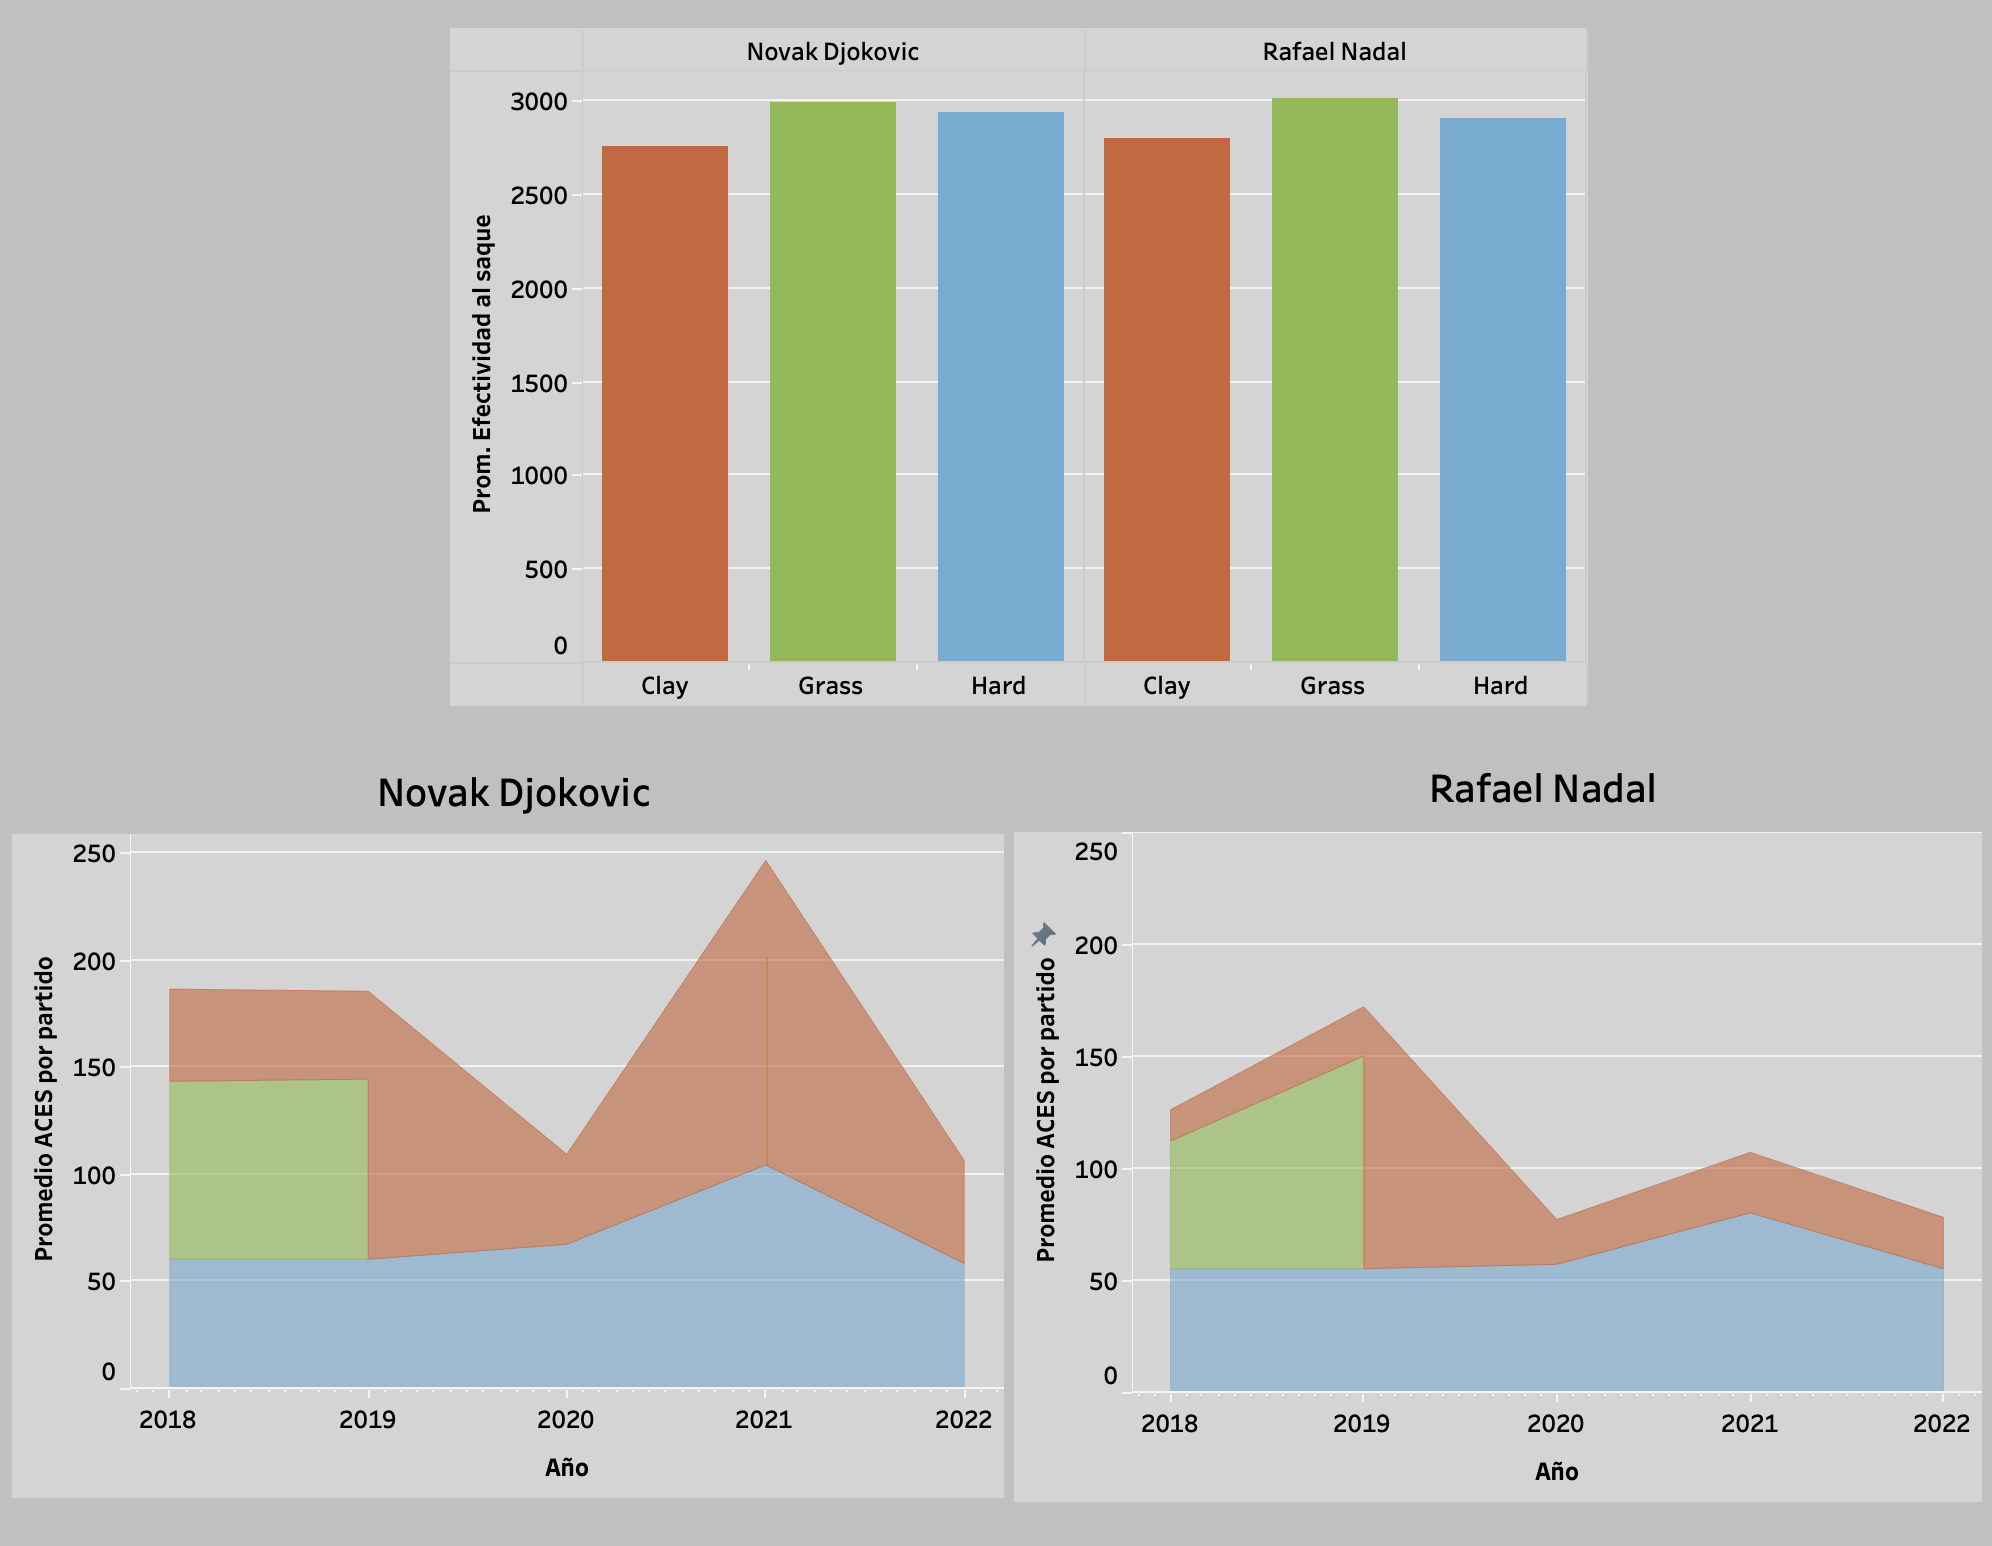

The dashboard page shown, as its layout file describes it:
{"tool":"tableau","page":{"name":"DashSaque","canvas":[1000,800],"ordinal":2},"visuals":[{"type":"worksheet","title":"SAQUE","mark":"Automatic","rows":["Efectividad_al_saque"],"cols":["Jugador (Hoja 1 - EfecSaque)","Superficie (Hoja 1 - EfecSaque)"],"box":[227,3,569,353]},{"type":"text","box":[714,381,142,30]},{"type":"text","box":[188,383,142,30]},{"type":"worksheet","title":"ACES FINALNAD","mark":"Area","rows":["Prom_AcesxPartido"],"cols":["Año (Hoja 1 - EfecSaque)"],"box":[509,404,484,350]},{"type":"worksheet","title":"ACES FINALDJO","mark":"Area","rows":["Prom_AcesxPartido"],"cols":["Año (Hoja 1 - EfecSaque)"],"box":[8,405,496,347]}]}

Visuals, with their boxes on the page's 1000x800 design canvas (x1, y1, x2, y2). These are canvas units, not pixel positions in the 1992x1546 screenshot, which may show the page scaled, cropped or inside an application window:
"SAQUE" worksheet: bbox=[227, 3, 796, 356]
text: bbox=[714, 381, 856, 411]
text: bbox=[188, 383, 330, 413]
"ACES FINALNAD" worksheet (Area marks): bbox=[509, 404, 993, 754]
"ACES FINALDJO" worksheet (Area marks): bbox=[8, 405, 504, 752]
